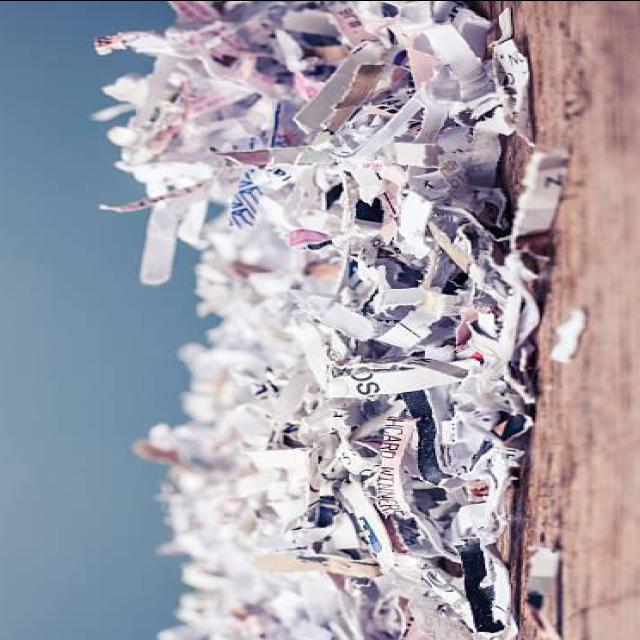kertas: (107, 0, 561, 640)
